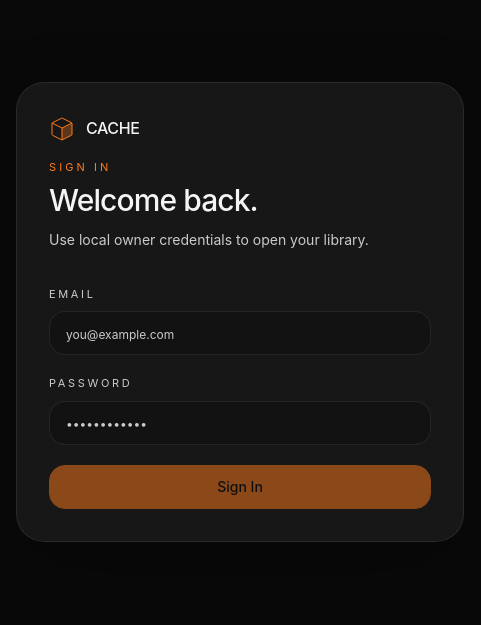
SignInPage › shows auth errors
Type "user@example.com" into the field labelled "Email".
click(240, 333); type("user@example.com")  # box [49, 311, 431, 355]
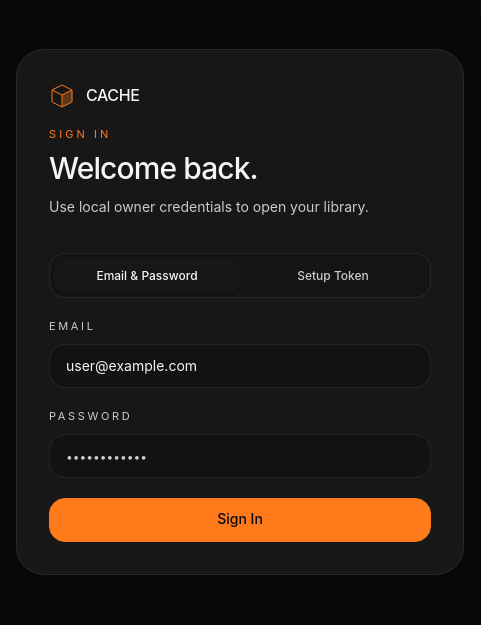
Type "wrong-password" into the password field labelled "Password".
click(240, 456); type("wrong-password")  # box [49, 434, 431, 478]
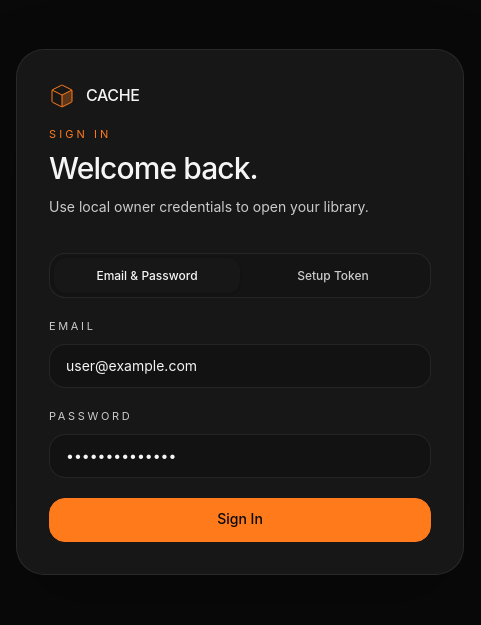
Click the button "Sign In".
click(240, 520)  # box [49, 498, 431, 542]
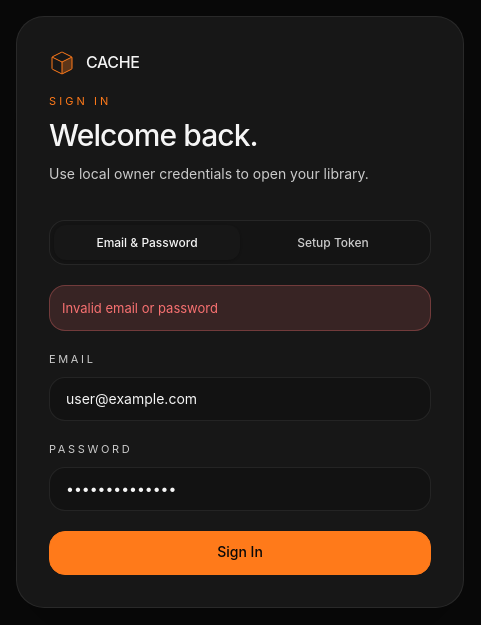
Now the message reads "Invalid email or password", box [62, 300, 218, 316]
